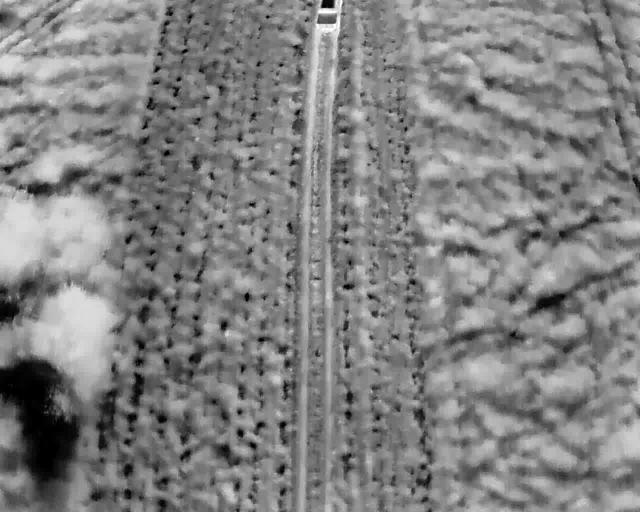car: (314, 0, 342, 29)
